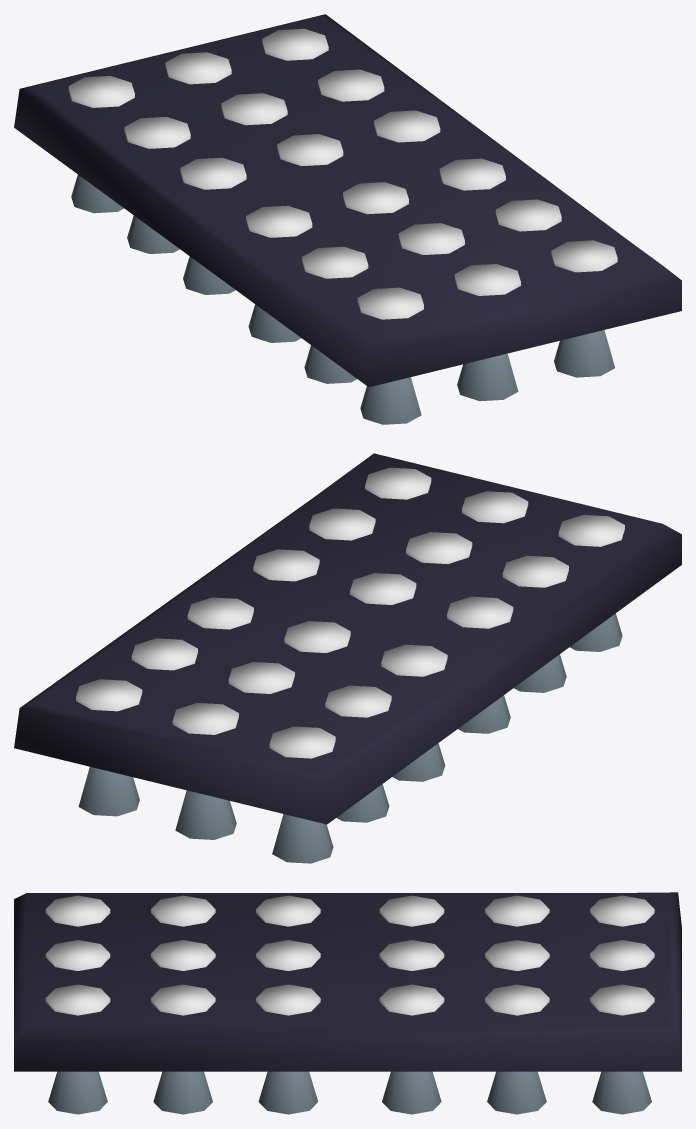
Rendered from spikes 1.fbx.
3 views of the same model, one above another, from view 1: azimuth 30°, elevation 25°; view 2: azimuth 150°, elevation 25°; view 3: azimuth 270°, elevation 25° (orthographic). The views are drawn at different scales.
Visible parts, largest first — view 1: spike-obstacle.001, spike-obstacle.003; view 2: spike-obstacle.001, spike-obstacle.003; view 3: spike-obstacle.001, spike-obstacle.003.
Part boxes in pixels (bbox=[...]): spike-obstacle.001: bbox=[14, 14, 681, 387]; spike-obstacle.003: bbox=[71, 175, 614, 424]; spike-obstacle.001: bbox=[14, 453, 681, 824]; spike-obstacle.003: bbox=[78, 613, 622, 863]; spike-obstacle.001: bbox=[14, 892, 681, 1071]; spike-obstacle.003: bbox=[48, 1071, 651, 1114].
Bounding box in the file's own units: 2.36 × 0.7928 × 4.63.
